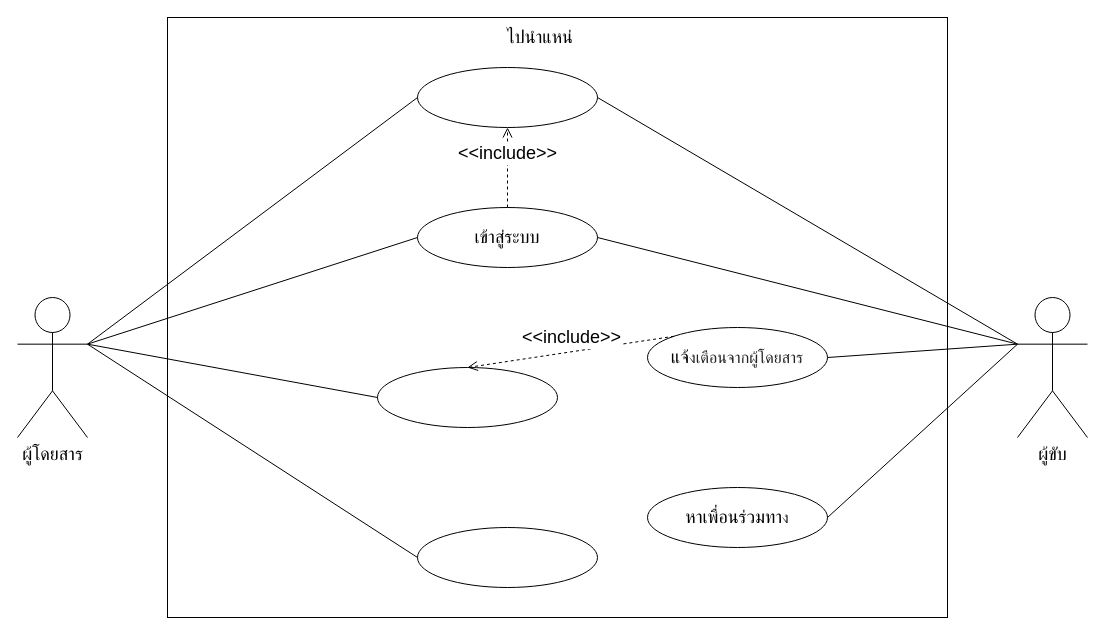
The diagram is 1105 pixels wide and 635 high, and some of its shapes have lost their labels. The shapes that lost their labels are listed below. From the top down, each one's centre as x and y in pixels, then its label:
point 507,97: สมัครสมาชิก
point 467,397: ค้นหารถ
point 507,557: หารถล่ว งหน้า
